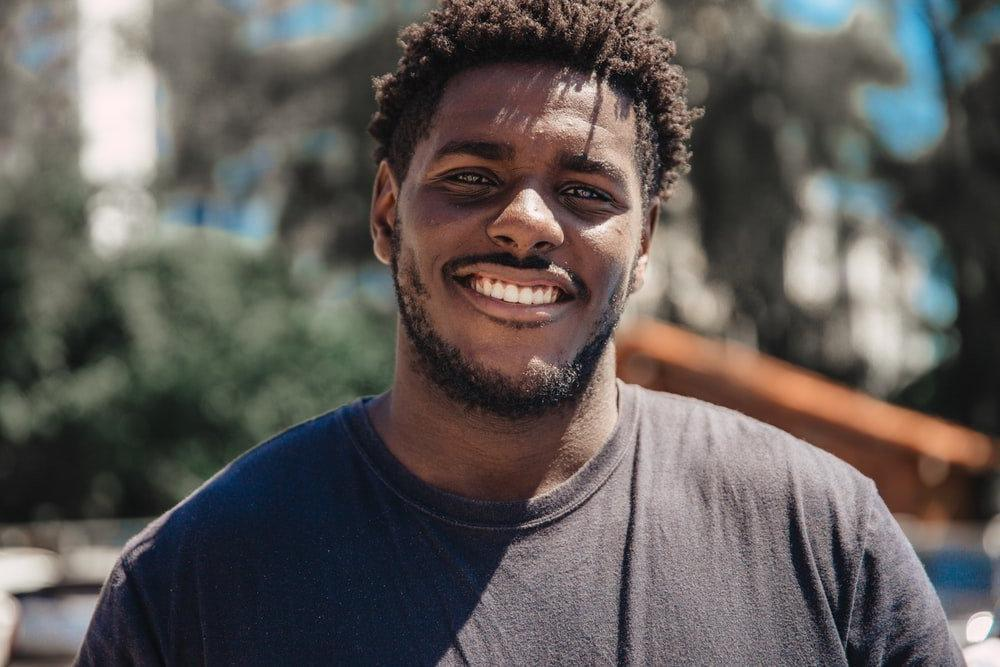Sober: (403, 89, 639, 368)
